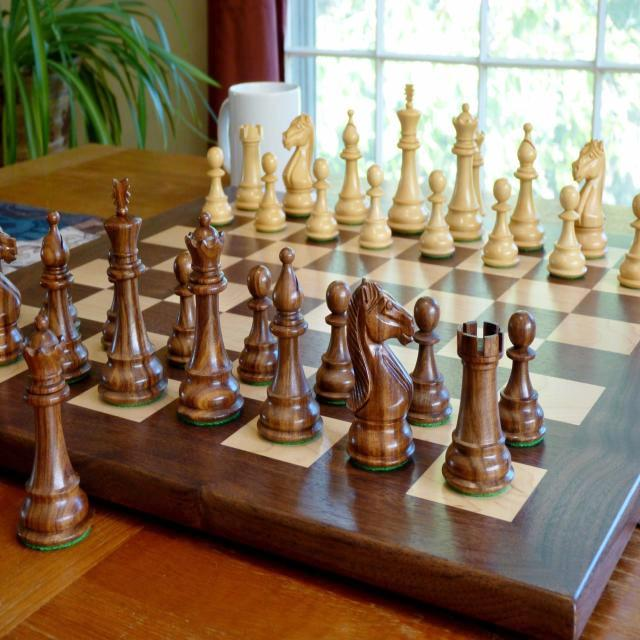chess-table-corners: (485, 497, 536, 548)
